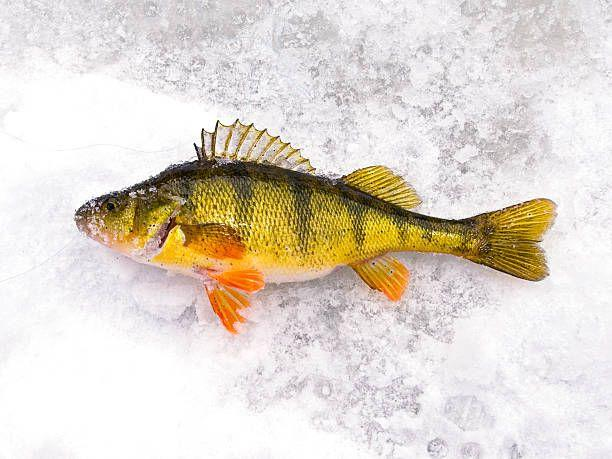Perch: (78, 116, 561, 339)
